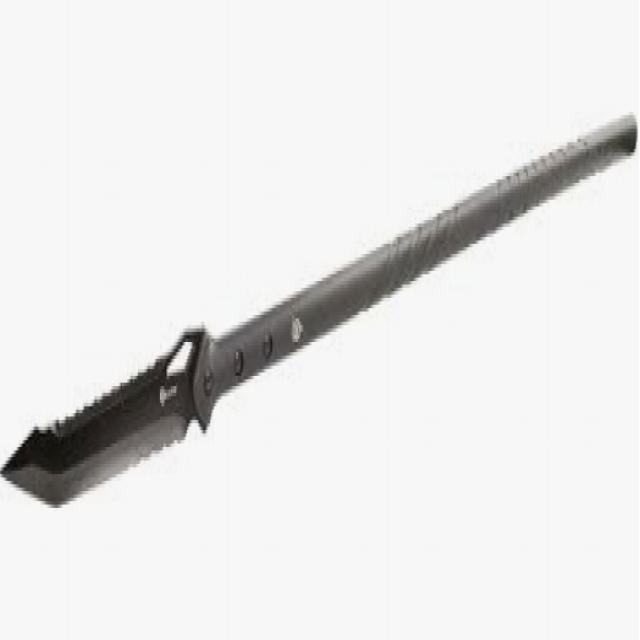spear: (4, 99, 636, 542)
